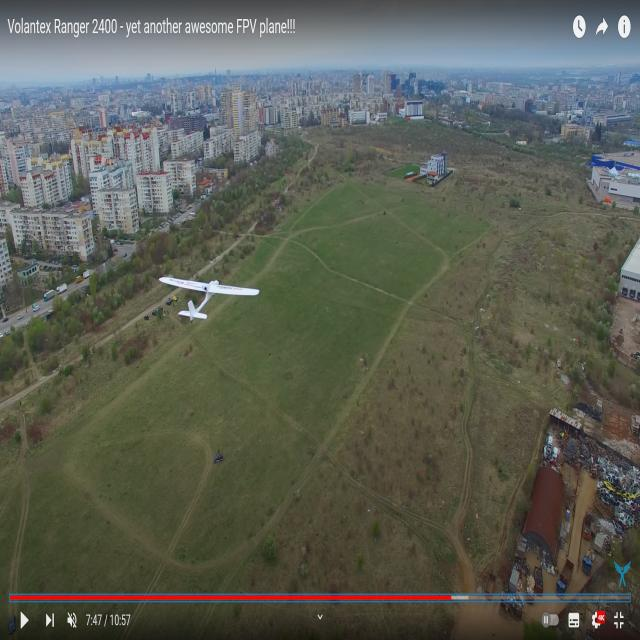iha: (193, 267, 227, 330)
